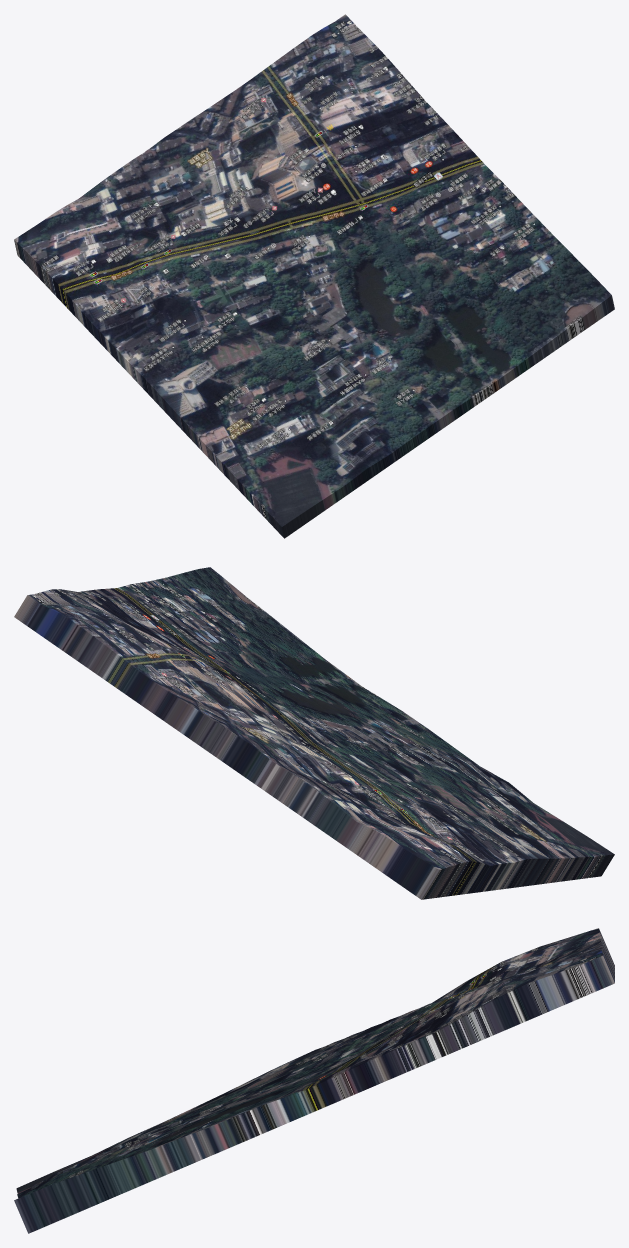
3 views of the same model, one above another, from view 1: azimuth 30°, elevation 25°; view 2: azimuth 150°, elevation 25°; view 3: azimuth 270°, elevation 25° (orthographic). The views are drawn at different scales.
Parts seen in each view (by area): view 1: 0_9_15; view 2: 0_9_15; view 3: 0_9_15.
Boxes of the visible parts, x1,y1,x2,y2 form: 0_9_15: (14, 14, 614, 538); 0_9_15: (14, 567, 614, 899); 0_9_15: (14, 928, 614, 1233).
Bounding box in the file's own units: 606 × 452 × 555.
Materials: 1 (1 with a texture image).
